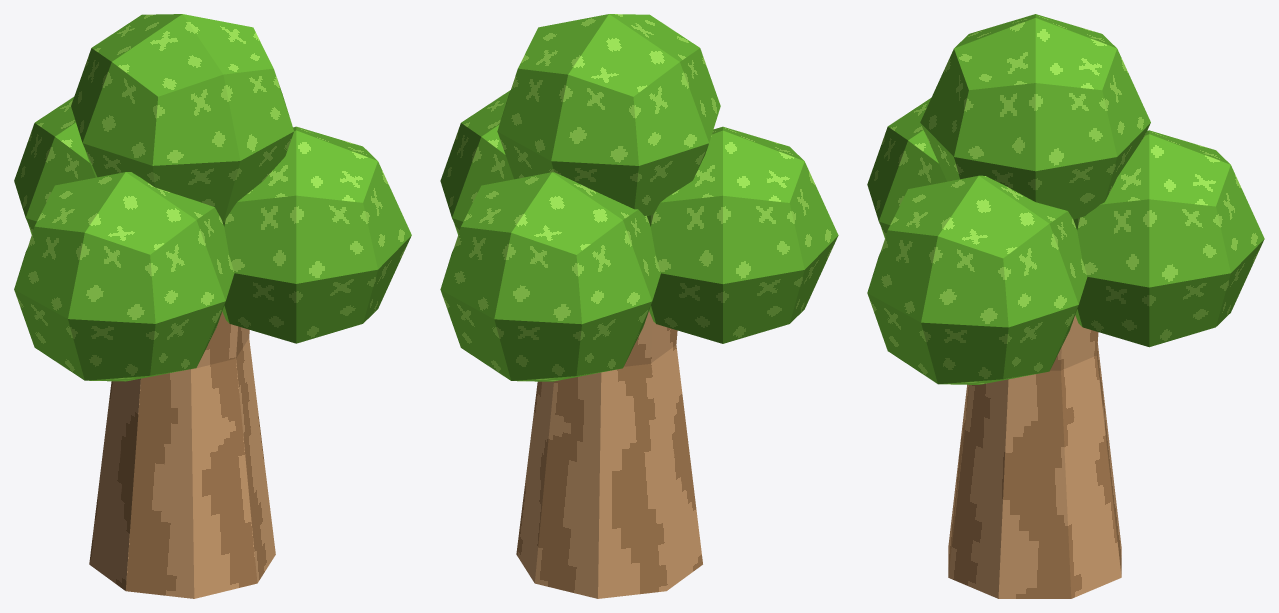
Rendered from Arbre_Model_3D.glb.
3 renders of one model, left to right at view 1: azimuth 30°, elevation 25°; view 2: azimuth 150°, elevation 25°; view 3: azimuth 270°, elevation 25°, orthographic.
Visible parts, largest first — view 1: Arbre Model 3D; view 2: Arbre Model 3D; view 3: Arbre Model 3D.
Boxes of the visible parts, x1=… form: Arbre Model 3D: x1=14, y1=14, x2=411, y2=598; Arbre Model 3D: x1=440, y1=14, x2=838, y2=598; Arbre Model 3D: x1=867, y1=14, x2=1264, y2=598.
Bounding box in the file's own units: 7.61 × 10.89 × 7.2.
Materials: 2 (2 with a texture image).
